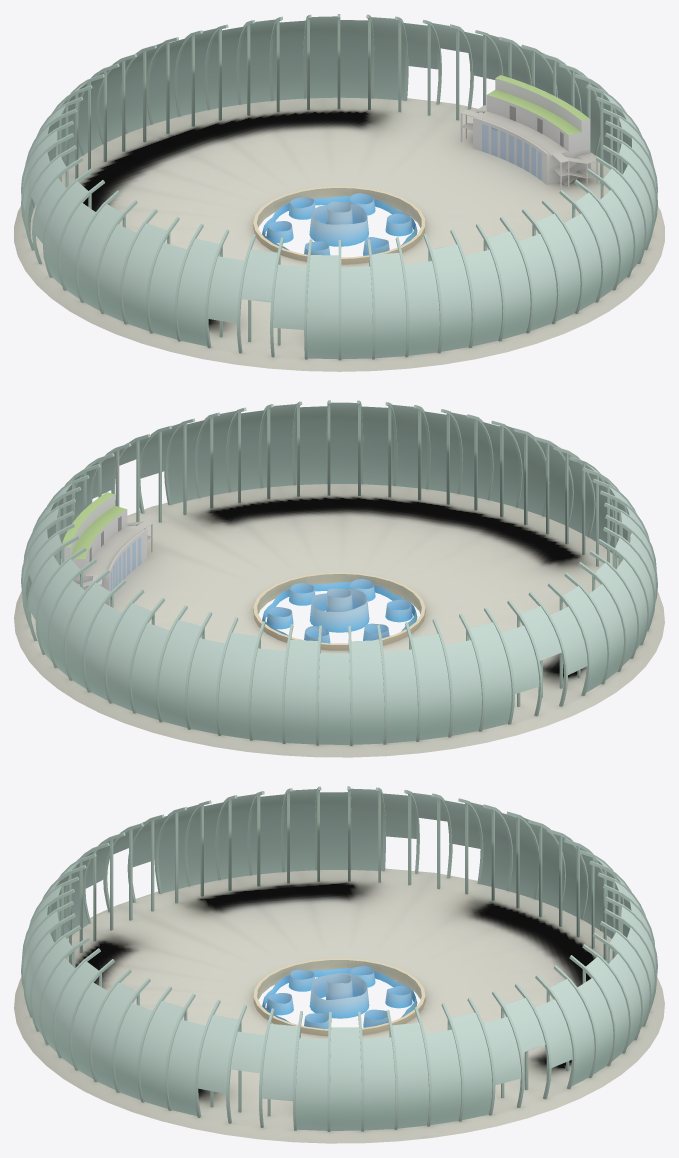
The picture shows the model from 3 angles, top to bottom: view 1: azimuth 30°, elevation 25°; view 2: azimuth 150°, elevation 25°; view 3: azimuth 270°, elevation 25°; orthographic projection.
Visible parts, largest first — view 1: boulevard1; view 2: boulevard1; view 3: boulevard1.
Boxes of the visible parts, x1,y1,x2,y2 form: boulevard1: (14,14,664,371); boulevard1: (14,400,664,757); boulevard1: (14,786,664,1143).
Bounding box in the file's own units: 103 × 18.59 × 103.
Materials: 1 (1 with a texture image).
